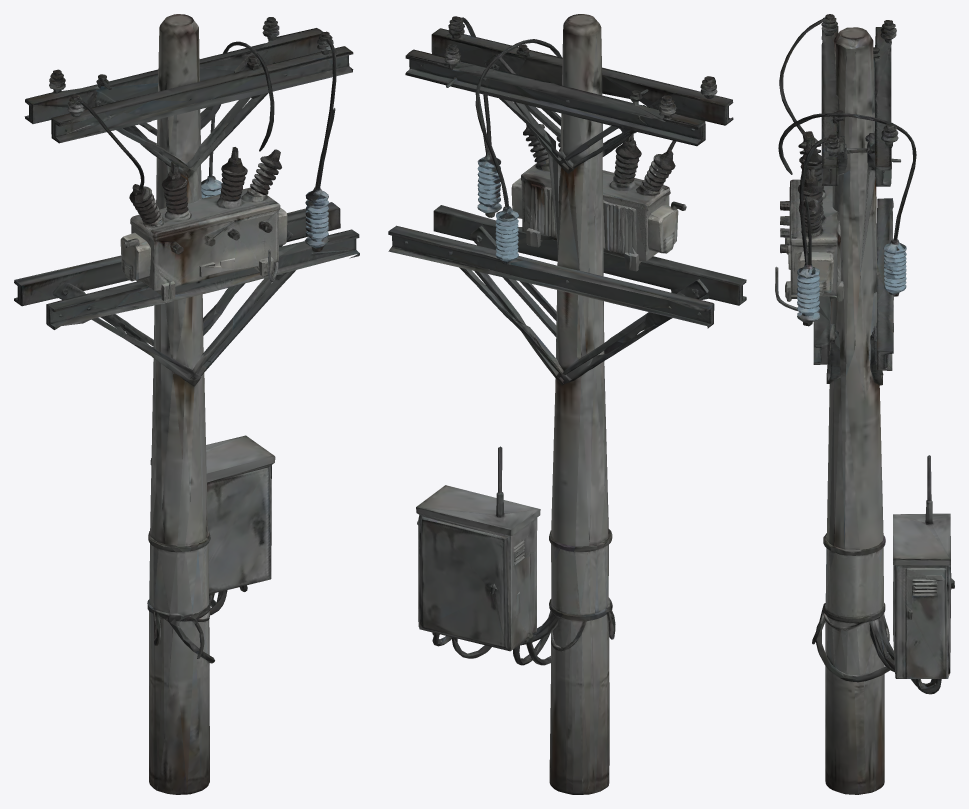
The model's file is recloser_concrete.glb.
3 renders of one model, left to right at view 1: azimuth 30°, elevation 25°; view 2: azimuth 150°, elevation 25°; view 3: azimuth 270°, elevation 25°, orthographic.
Bounding box in the file's own units: 0.8336 × 1.9 × 0.4141.
1 material, 1 textured.
